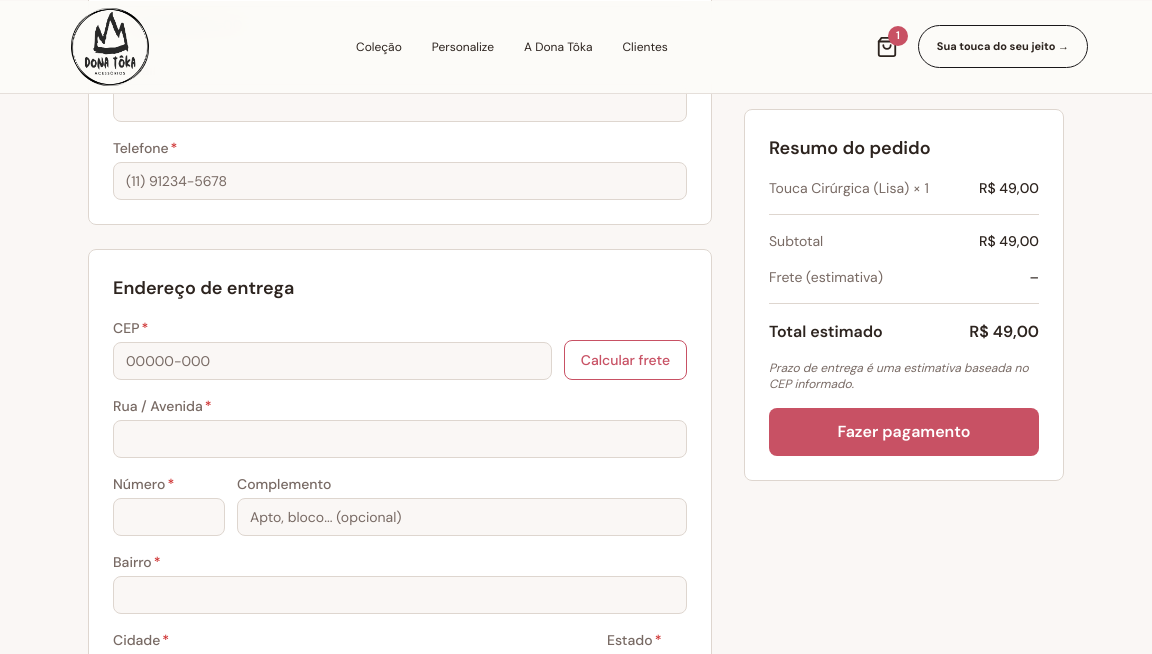
Test: checkout — freight quote edge cases › shows an invalid CEP error before requesting freight
The image size is (1152, 654).
(page scrolled)
Type "1234" into the field labelled "CEP*". click: (332, 360)
box: [113,342,552,380]
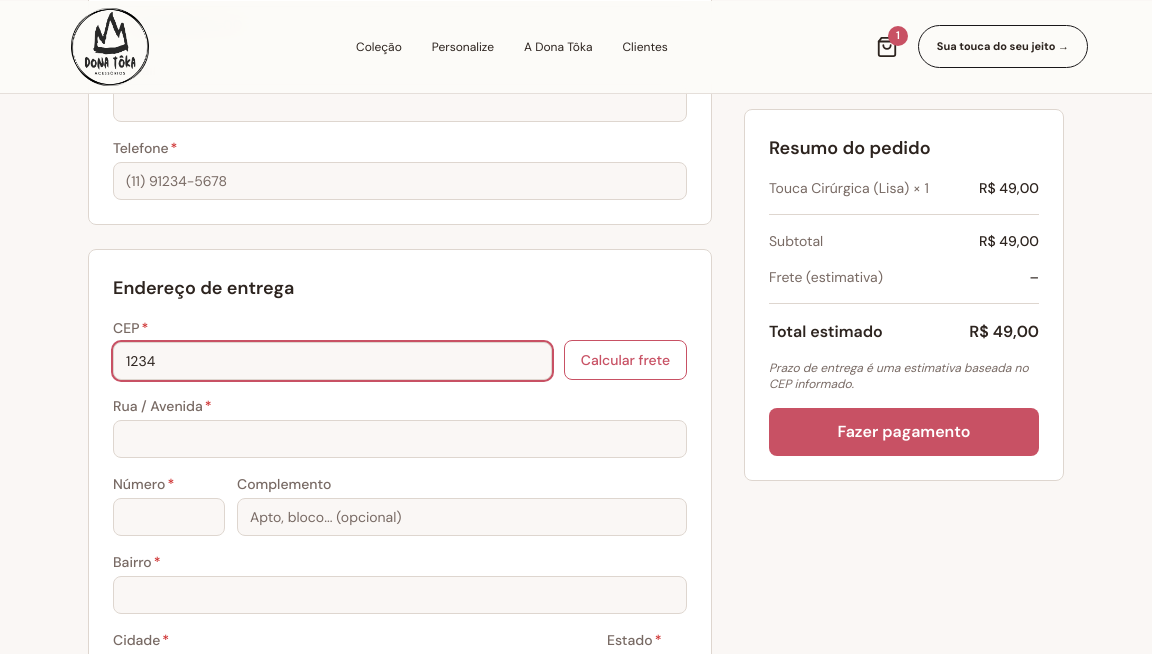
Click the button "Calcular frete". click: click(625, 360)
box: [564,340,687,380]
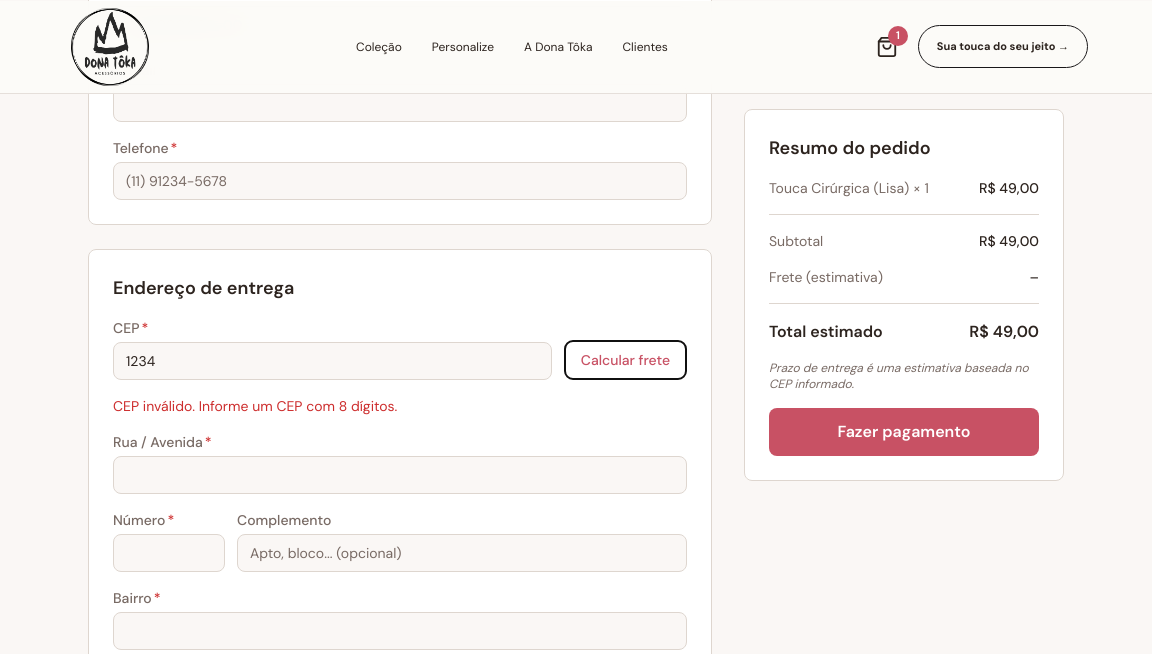
Result: the text "CEP inválido. Informe um CEP com 8 dígitos." is shown at [113,396,397,414]
